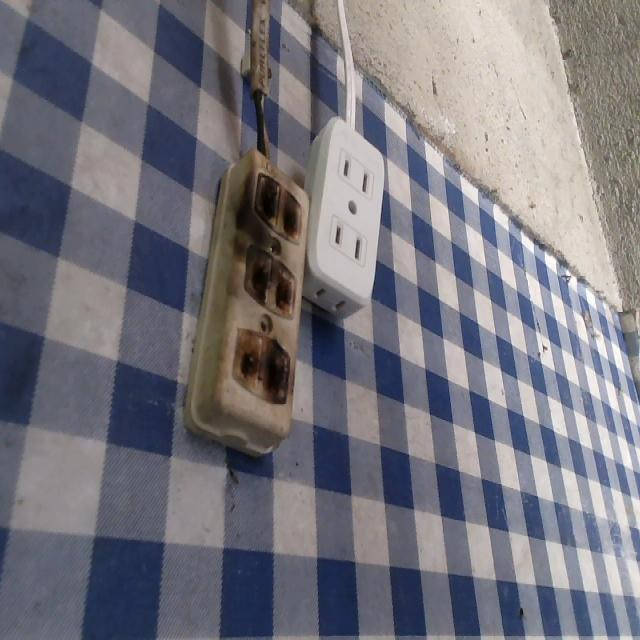-: (224, 324, 298, 408), (249, 167, 312, 249), (239, 248, 299, 321)
